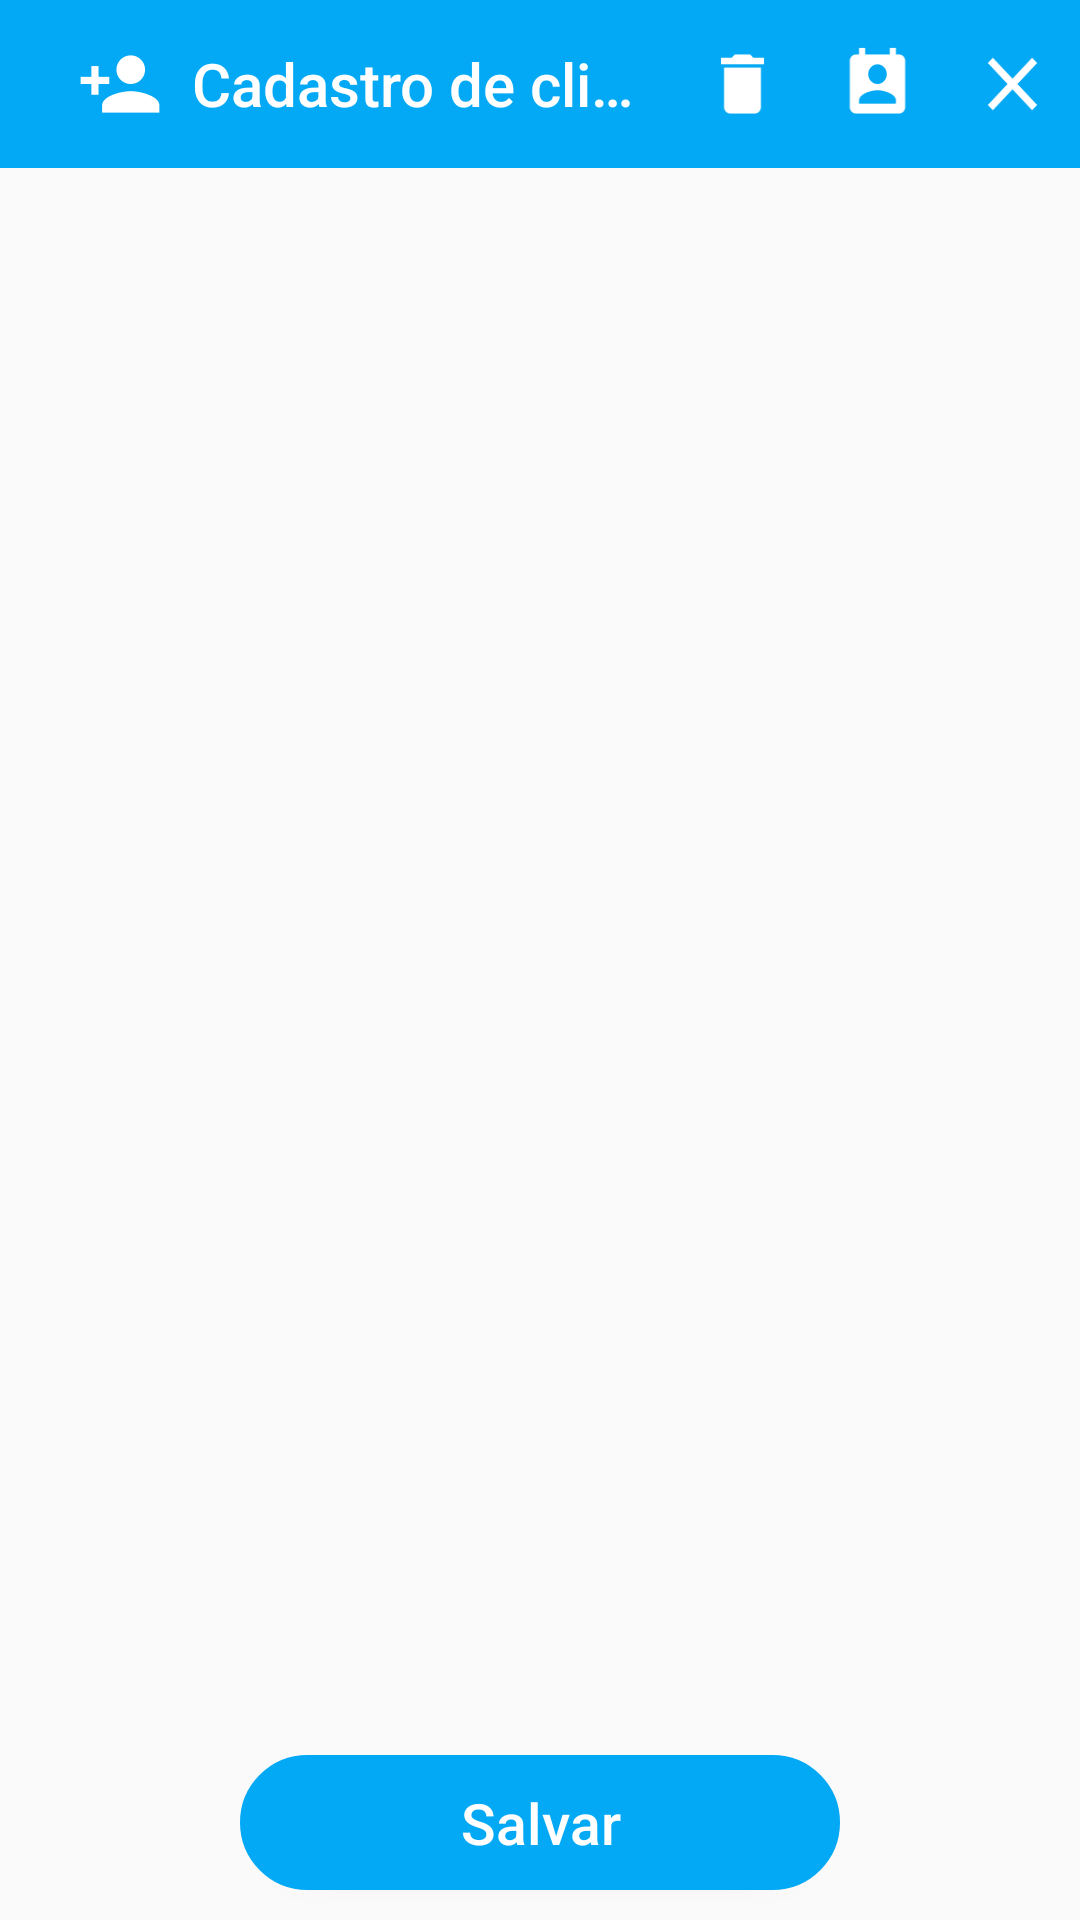

Named icons in this screenshot (1080 x 1920) and their centers, point (x, y):
calendar: point (877, 81)
close: point (1012, 84)
delete: point (742, 84)
